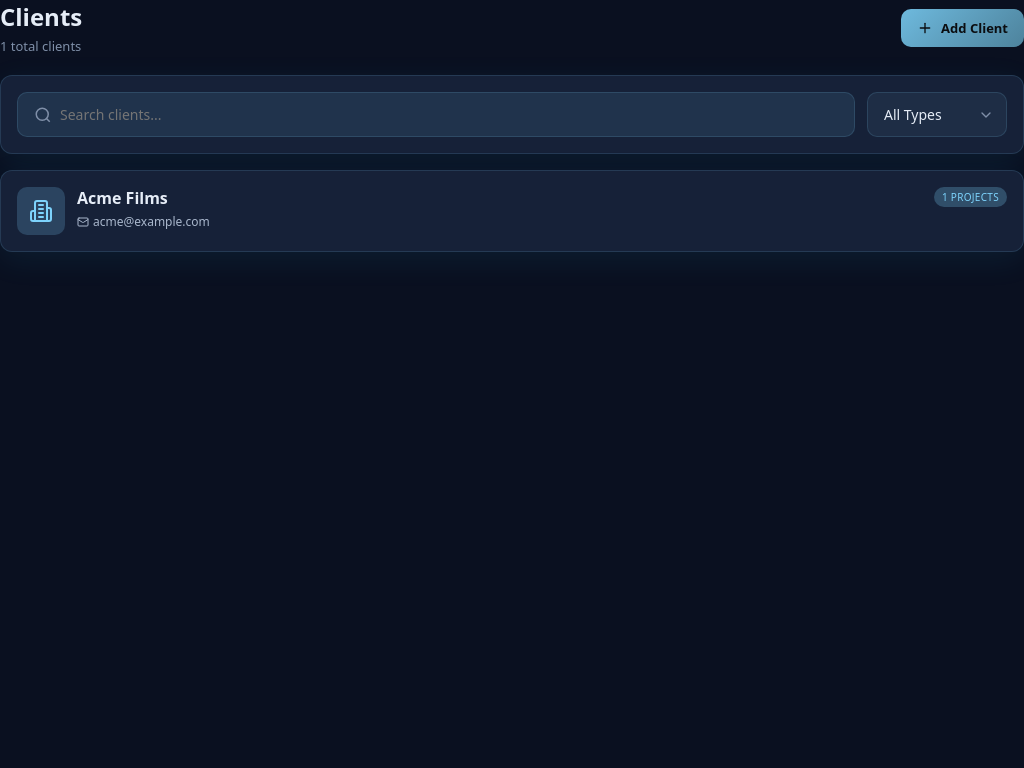
delete › warns about linked reservations in the confirmation
Click the text "Acme Films": (122, 198) [77,187,168,209]
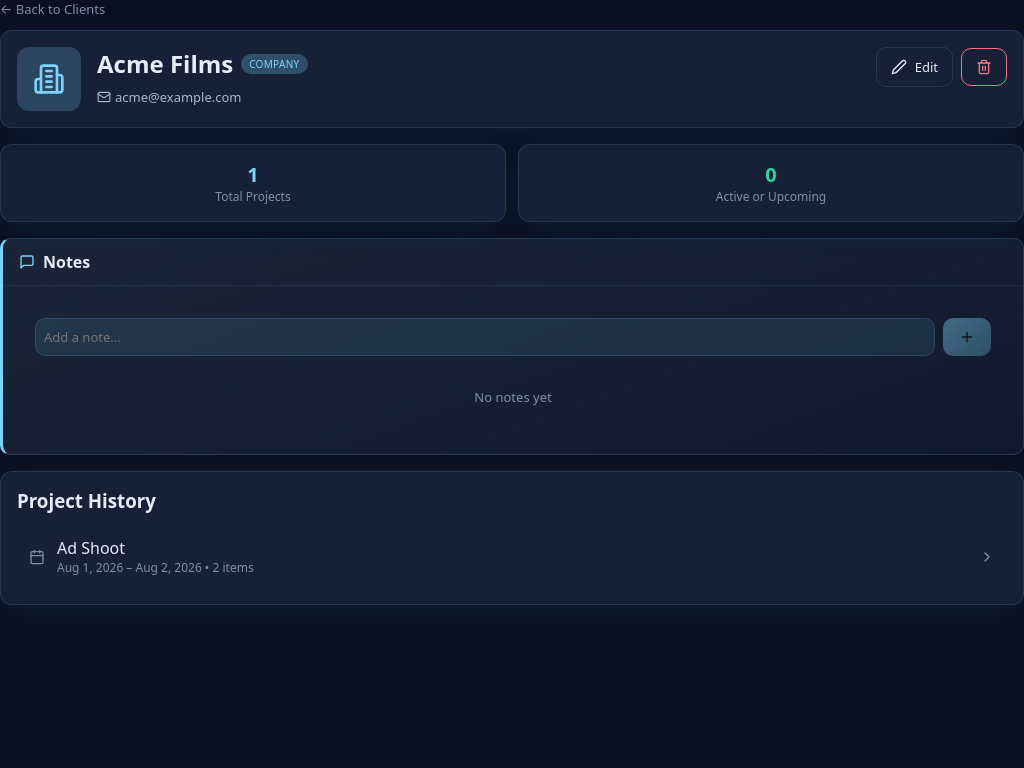
Click the button named "Delete Acme Films": (984, 67) [961,48,1007,86]
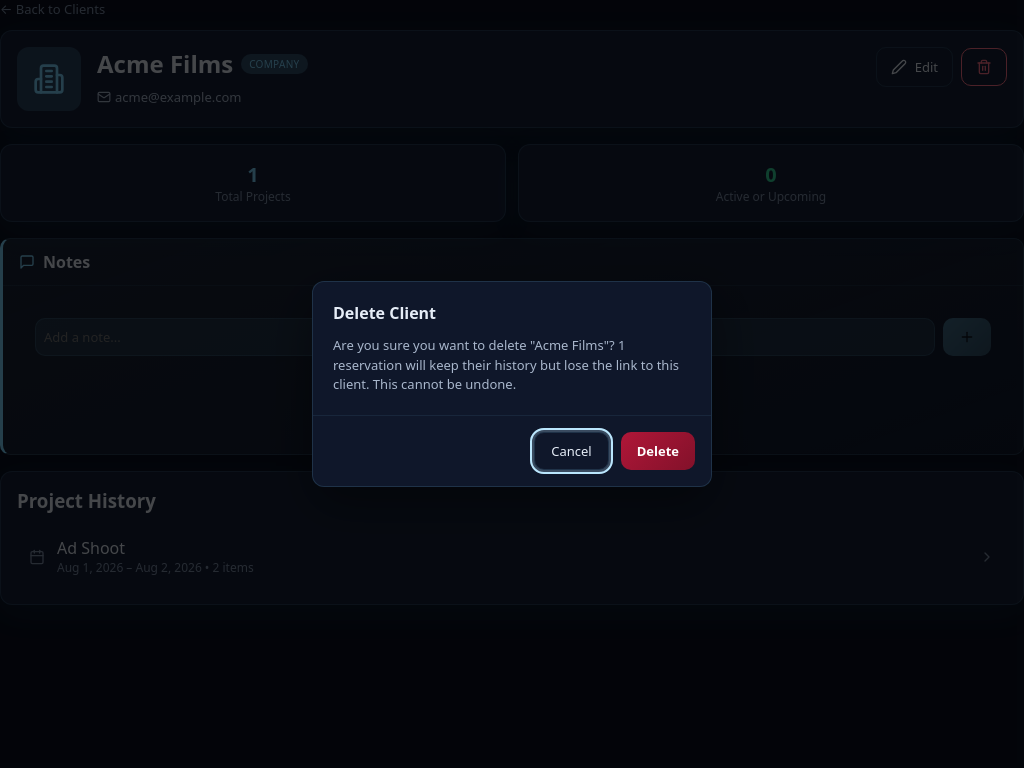
Check: the text "1 reservation will keep their history but lose the link" is shown, box [333,336,679,393]
